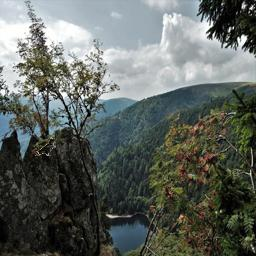Crow: (35, 138, 55, 156)
